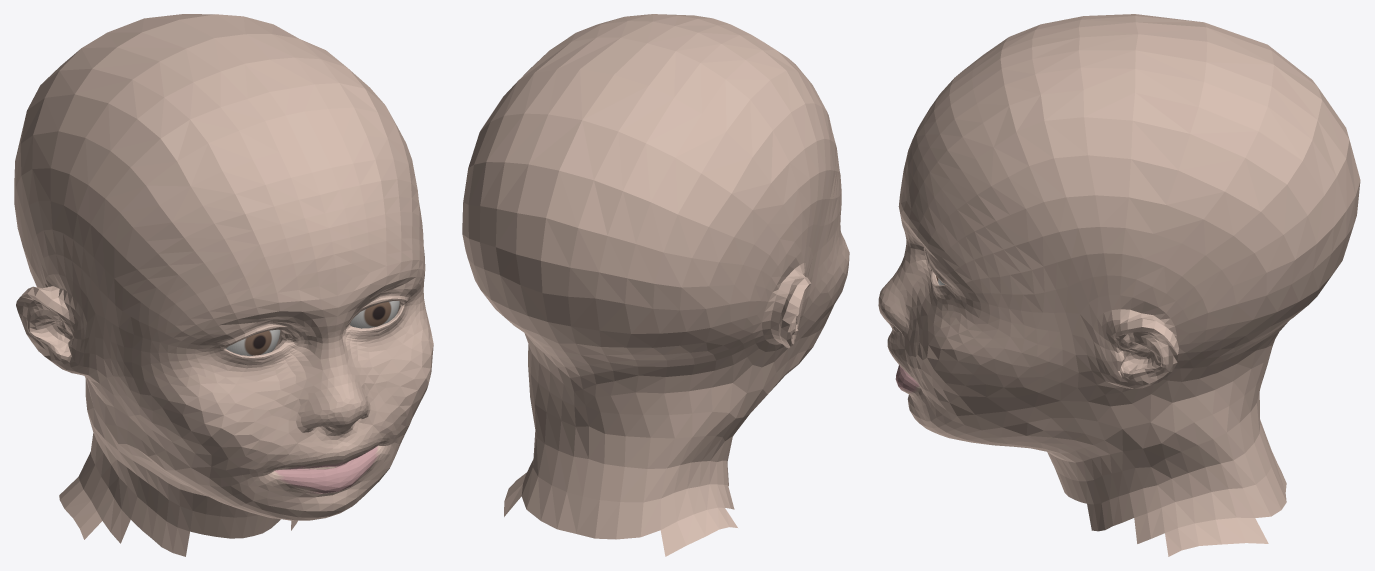
Rendered from karma_face_MH_neutral_AI.glb.
3 renders of one model, left to right at view 1: azimuth 30°, elevation 25°; view 2: azimuth 150°, elevation 25°; view 3: azimuth 270°, elevation 25°, orthographic. The views are drawn at different scales.
Parts seen in each view (by area): view 1: head; view 2: head; view 3: head.
Boxes of the visible parts, x1=… form: head: x1=14, y1=14, x2=433, y2=556; head: x1=462, y1=14, x2=849, y2=556; head: x1=878, y1=14, x2=1360, y2=556.
Size of the model in its own units: 3.03 by 3.91 by 3.62.
